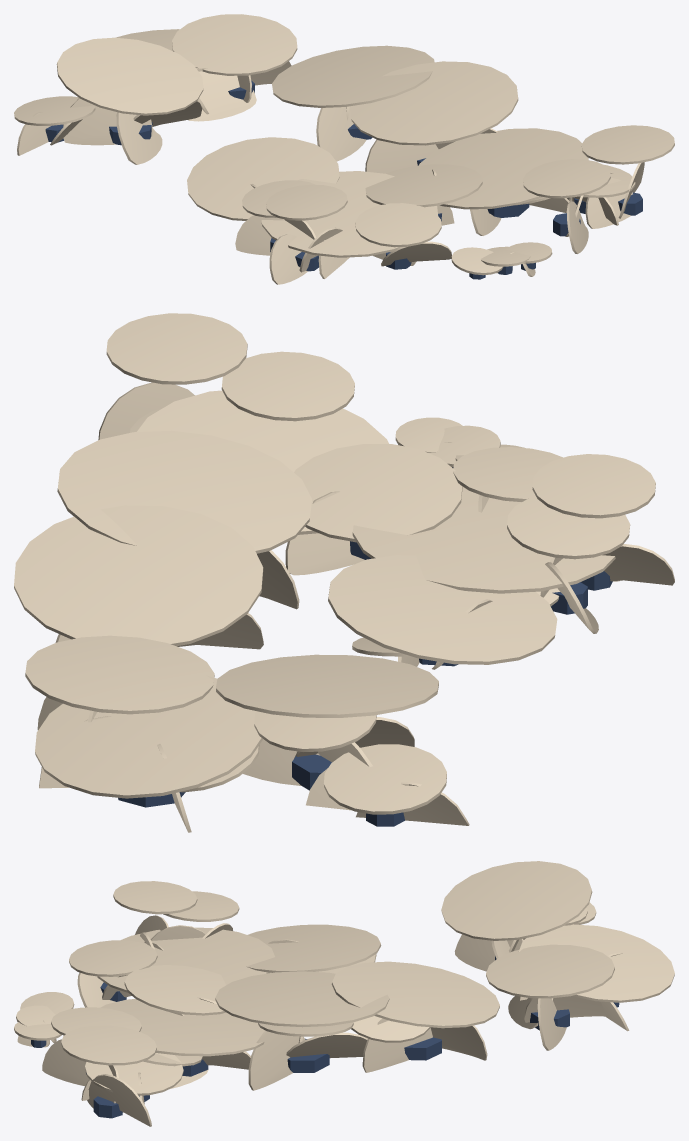
The model's file is doha-national-museum.glb.
3 renders of one model, top to bottom at view 1: azimuth 30°, elevation 25°; view 2: azimuth 150°, elevation 25°; view 3: azimuth 270°, elevation 25°, orthographic. The views are drawn at different scales.
Visible parts, largest first — view 1: National Museum of Qatar; view 2: National Museum of Qatar; view 3: National Museum of Qatar.
Boxes of the visible parts, box(x1,y1,x2,y2) form: National Museum of Qatar: box(14, 14, 674, 284); National Museum of Qatar: box(14, 313, 674, 832); National Museum of Qatar: box(14, 861, 674, 1126).
Bounding box in the file's own units: 249 × 38.95 × 314.
